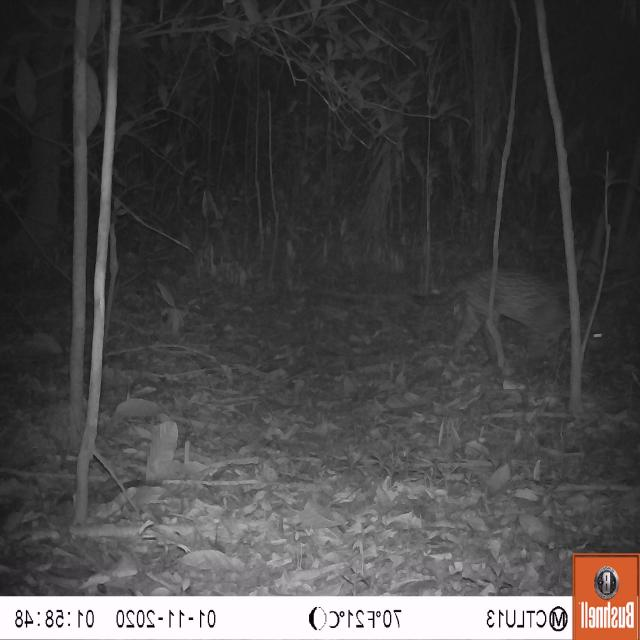Ocelote: (433, 256, 619, 382)
